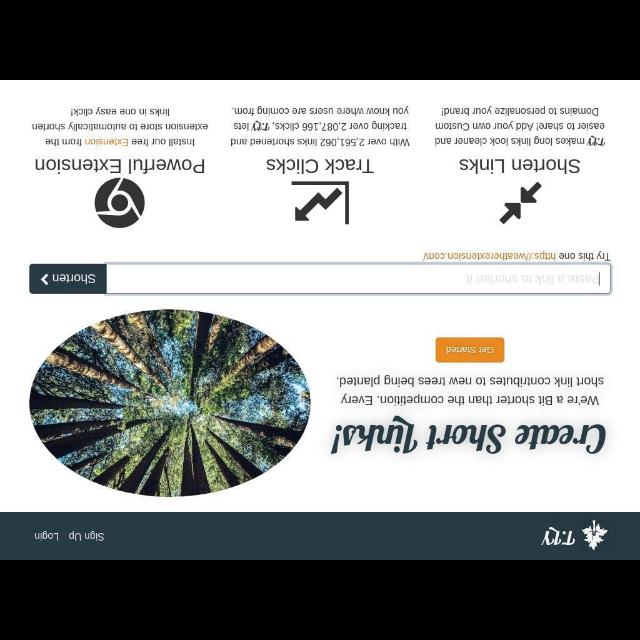icon: (290, 180, 350, 226), (498, 182, 542, 224), (40, 274, 49, 286)
image: (26, 308, 314, 498), (93, 177, 147, 230), (538, 519, 608, 551)
input: (105, 262, 612, 294)
text: (327, 412, 607, 458), (334, 372, 606, 406), (228, 105, 412, 147), (28, 106, 210, 146), (435, 106, 607, 148), (34, 157, 205, 175), (458, 156, 580, 174), (266, 157, 374, 175), (462, 272, 600, 286), (420, 251, 612, 261), (52, 274, 96, 284), (68, 530, 104, 542), (444, 346, 494, 354), (36, 529, 60, 541)
textbutton: (28, 262, 106, 294), (435, 336, 505, 364)
toolbar: (1, 513, 639, 559)
